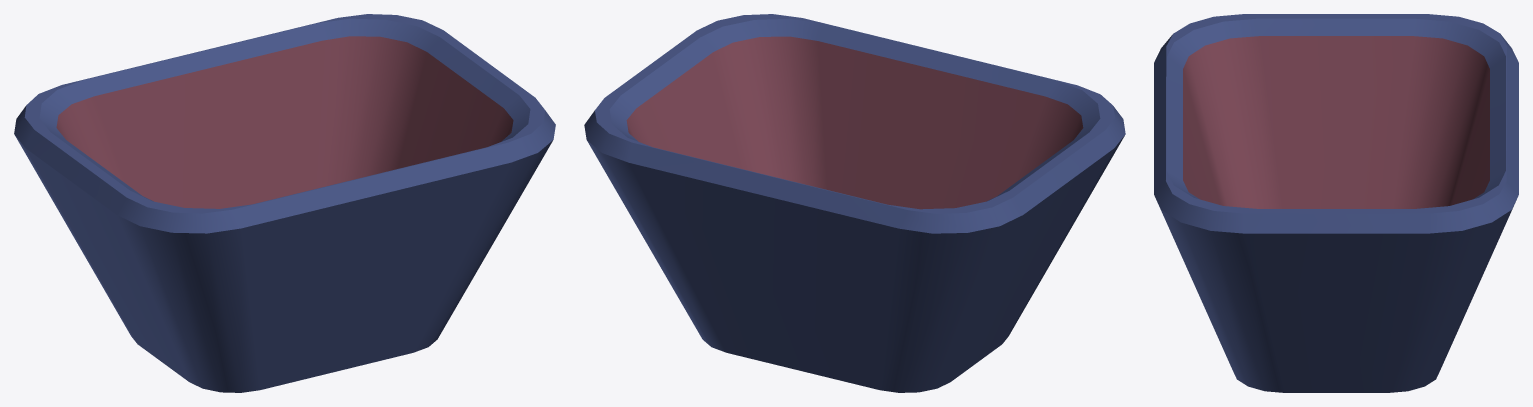
File: basket.fbx
3 renders of one model, left to right at view 1: azimuth 30°, elevation 25°; view 2: azimuth 150°, elevation 25°; view 3: azimuth 270°, elevation 25°, orthographic.
Parts seen in each view (by area): view 1: basket; view 2: basket; view 3: basket.
Boxes of the visible parts, box(x1,y1,x2,y2) form: basket: box(14, 14, 555, 392); basket: box(584, 14, 1125, 392); basket: box(1154, 14, 1518, 392).
Bounding box in the file's own units: 1.31 × 0.6444 × 0.9694.
